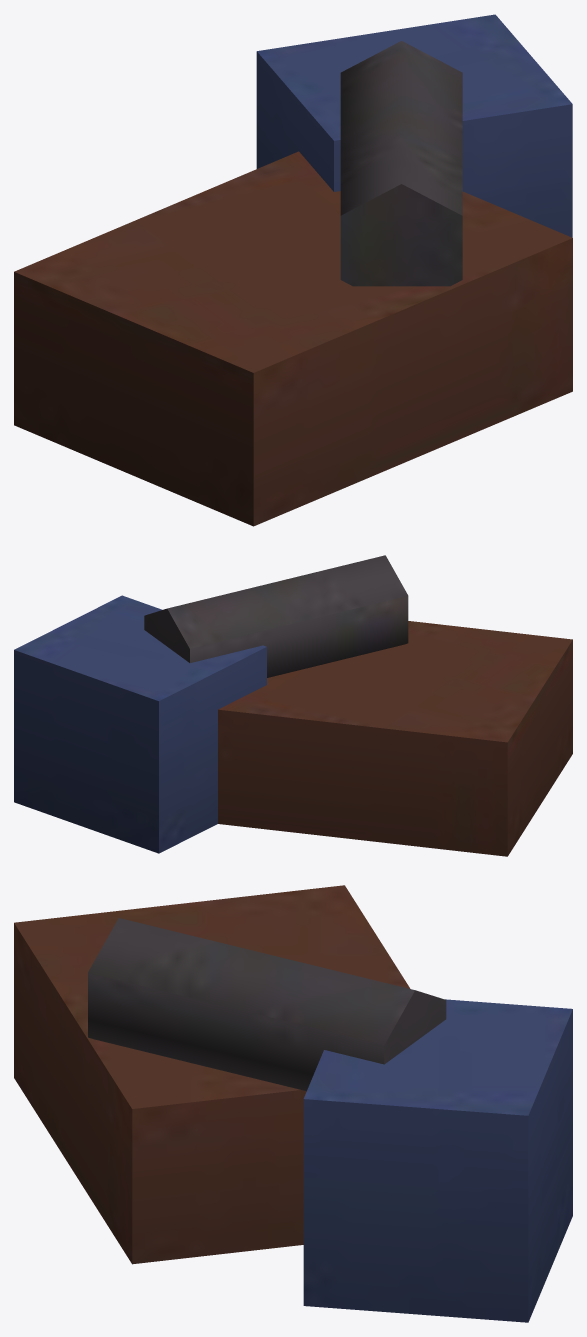
The model's file is scrap.glb.
The picture shows the model from 3 angles, top to bottom: view 1: azimuth 30°, elevation 25°; view 2: azimuth 150°, elevation 25°; view 3: azimuth 270°, elevation 25°; orthographic projection. The views are drawn at different scales.
Parts seen in each view (by area): view 1: scrap; view 2: scrap; view 3: scrap.
Part boxes in pixels (x1,y1,x2,y2): scrap: (14, 14, 572, 526); scrap: (14, 555, 572, 856); scrap: (14, 885, 572, 1322).
Size of the model in its own units: 0.2341 by 0.1 by 0.1959.
Materials: 1 (1 with a texture image).
